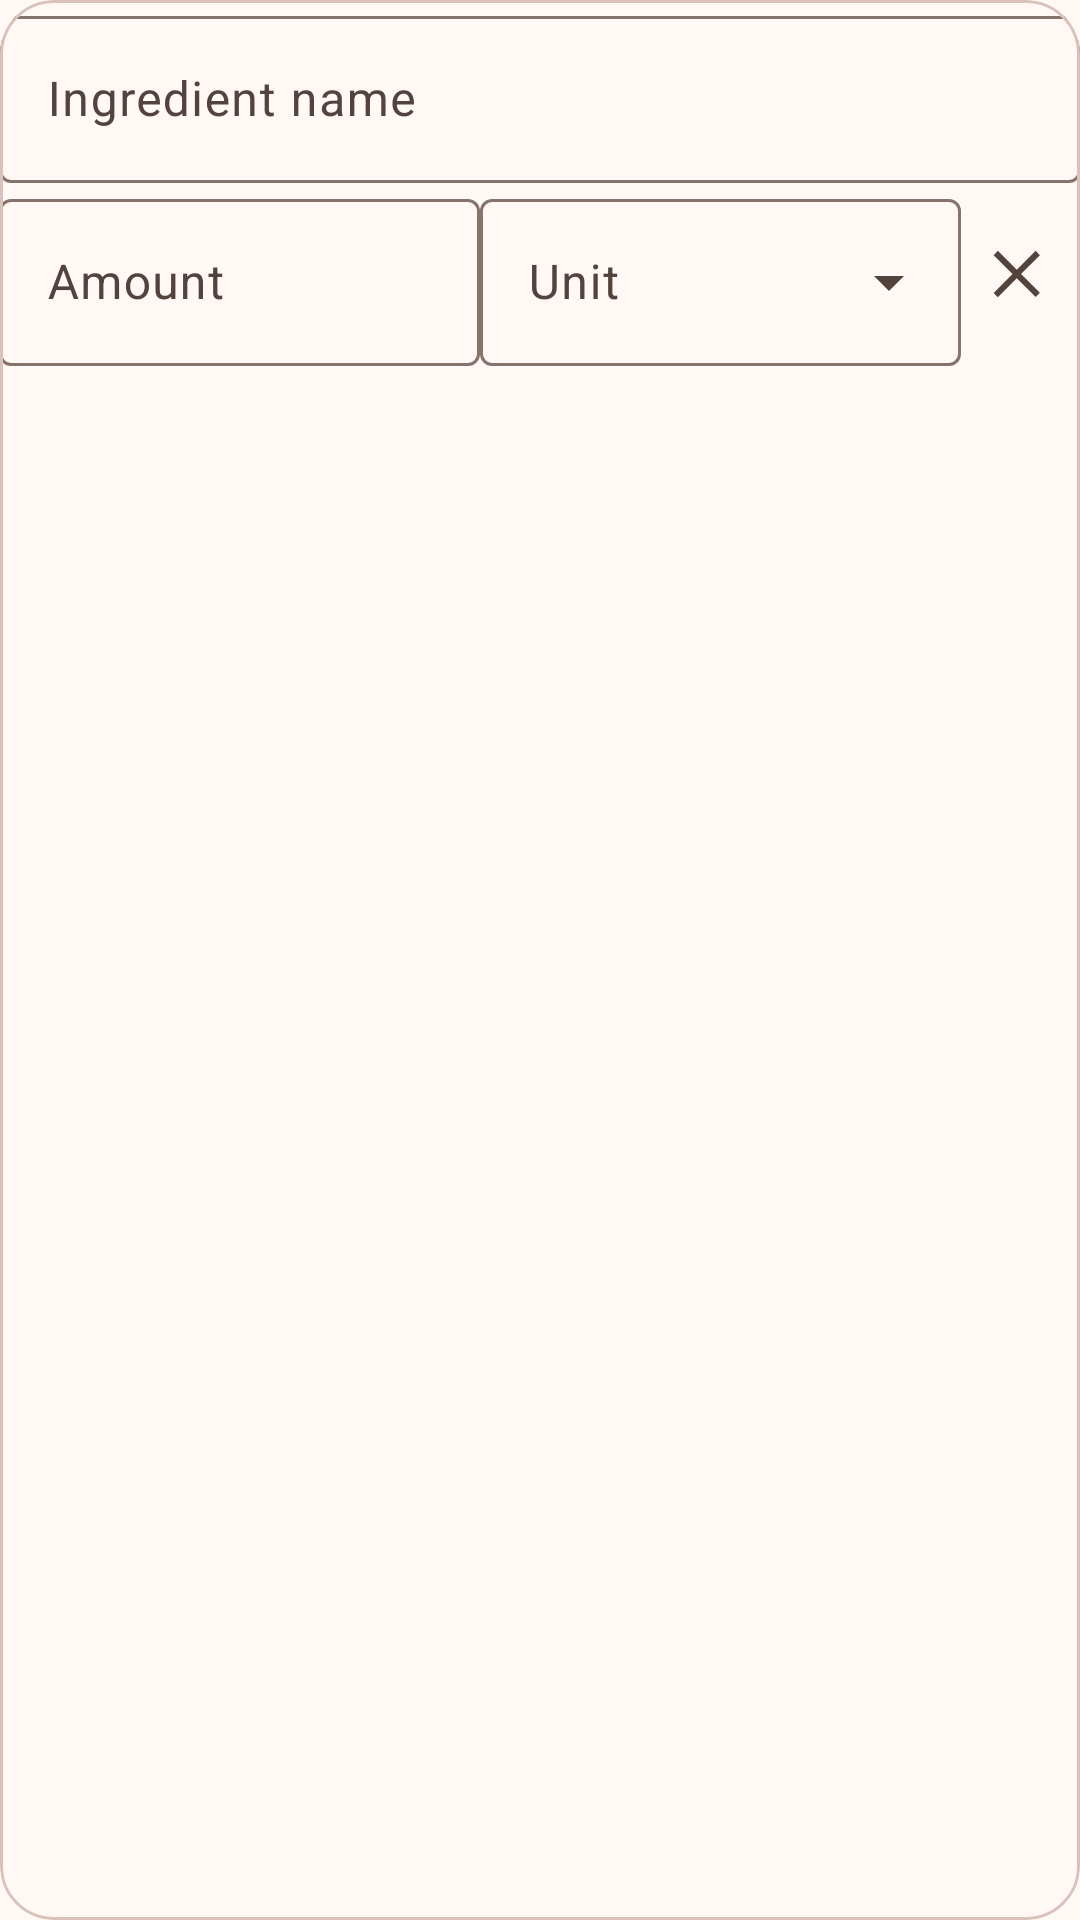

Screen size 1080 × 1920. Icon name, then its center in pixels as (x,y):
Remove ingredient: (1017,274)
